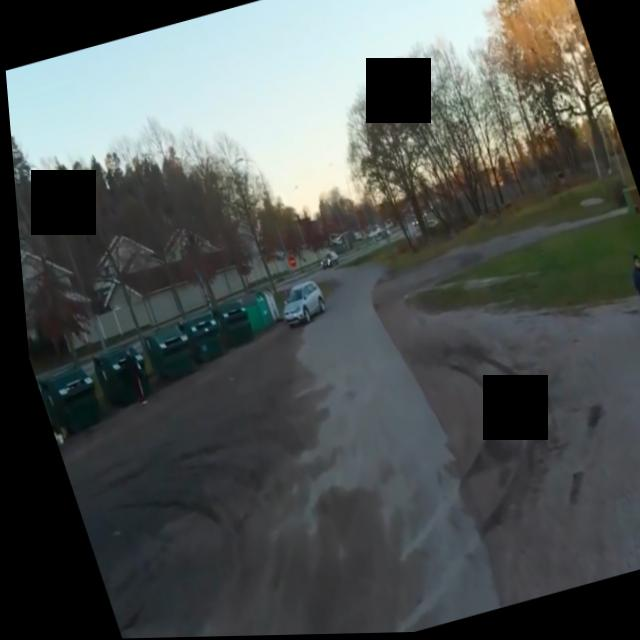Vehicle: (265, 272, 330, 336), (308, 245, 338, 277)
